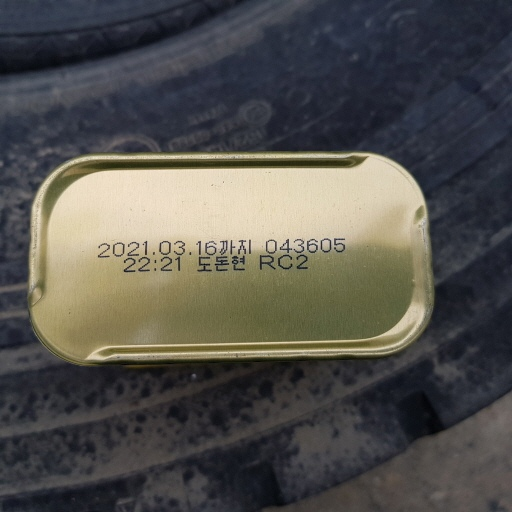Metal_2: (25, 148, 439, 369)
